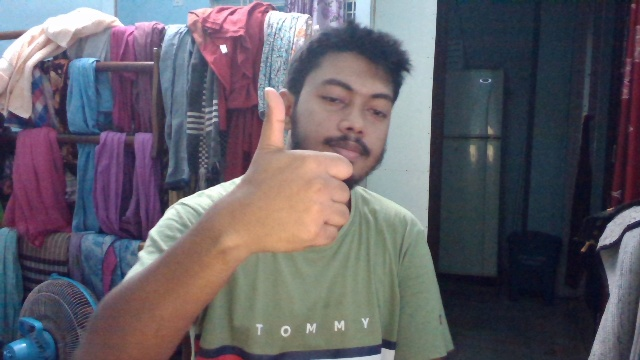yes: (238, 84, 357, 264)
